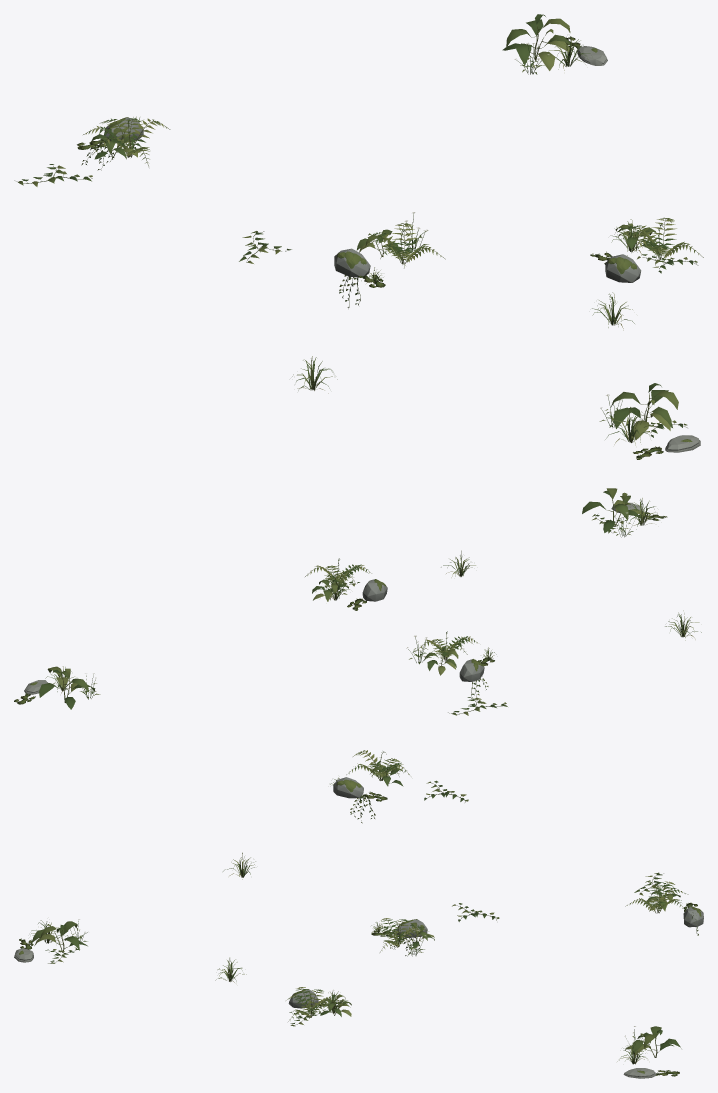
Rendered from dressing_stage4.glb.
3 renders of one model, top to bottom at view 1: azimuth 30°, elevation 25°; view 2: azimuth 150°, elevation 25°; view 3: azimuth 270°, elevation 25°, orthographic. The views are drawn at different scales.
Parts seen in each view (by area): view 1: stage1_dressing_foliage, stage1_dressing_rocks; view 2: stage1_dressing_foliage, stage1_dressing_rocks; view 3: stage1_dressing_foliage, stage1_dressing_rocks.
Part boxes in pixels (left/top/right/bottom): stage1_dressing_foliage: left=14, top=14, right=703, bottom=459; stage1_dressing_rocks: left=103, top=46, right=700, bottom=452; stage1_dressing_foliage: left=14, top=488, right=701, bottom=823; stage1_dressing_rocks: left=24, top=502, right=642, bottom=798; stage1_dressing_foliage: left=19, top=852, right=699, bottom=1076; stage1_dressing_rocks: left=14, top=906, right=703, bottom=1078.
Size of the model in its own units: 5.91 by 0.7644 by 8.26.
